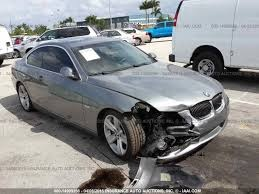Broken-glass: (132, 101, 164, 120)
Smashed: (131, 103, 199, 161)
